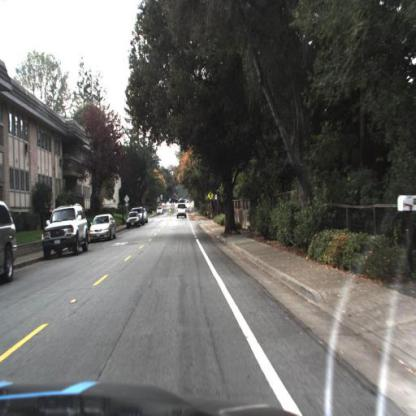car: (42, 202, 92, 258), (42, 203, 90, 261), (1, 193, 20, 292), (90, 214, 117, 244), (176, 200, 189, 223), (126, 210, 141, 228)
